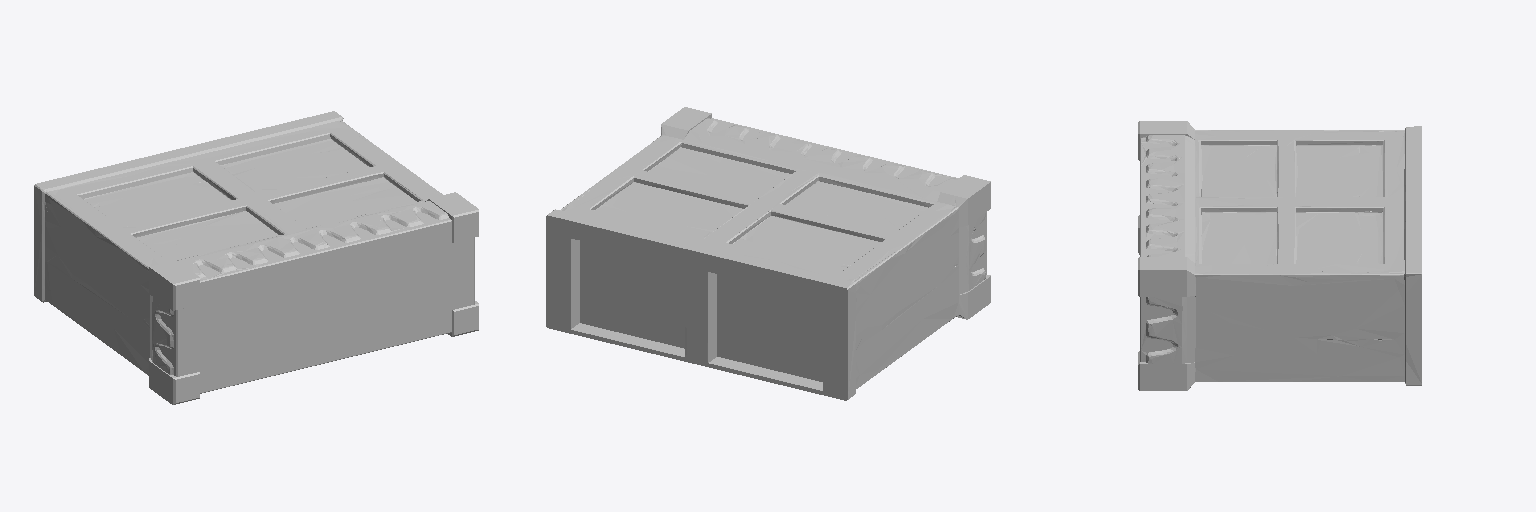
File: bookshelf.obj
3 views of the same model, side by side, from view 1: azimuth 30°, elevation 25°; view 2: azimuth 150°, elevation 25°; view 3: azimuth 270°, elevation 25° (orthographic).
Parts seen in each view (by area): view 1: mmGroup0; view 2: mmGroup0; view 3: mmGroup0.
Part boxes in pixels (left/top/right/bottom): mmGroup0: left=34, top=111, right=478, bottom=404; mmGroup0: left=546, top=107, right=990, bottom=400; mmGroup0: left=1138, top=121, right=1421, bottom=390.
Bounding box in the file's own units: 61.91 × 23.36 × 49.82.